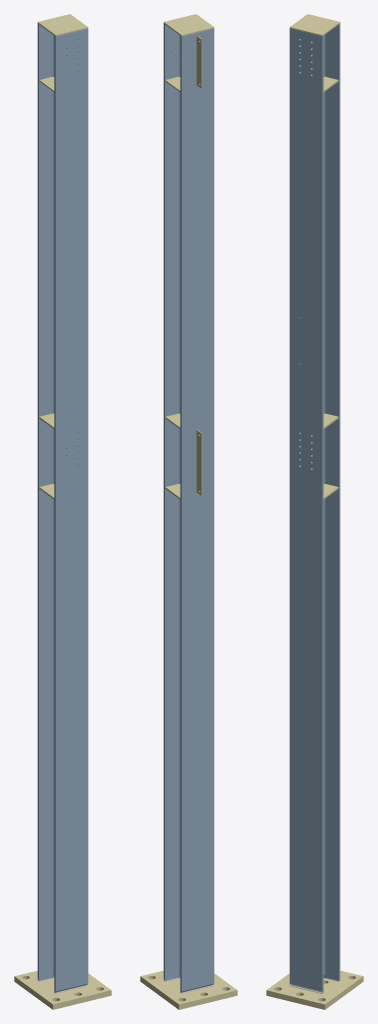
3 views of the same model, side by side, from view 1: azimuth 30°, elevation 25°; view 2: azimuth 210°, elevation 25°; view 3: azimuth 330°, elevation 25° (orthographic).
Visible parts, largest first — view 1: product-65b29816-f8a1-4d1b-8bb0-ab9964688945-body, product-bc5590c6-d2c3-47dd-92cb-f6e40964f995-body, product-5304abe9-6c36-403a-beb8-4f72c3dda225-body; view 2: product-65b29816-f8a1-4d1b-8bb0-ab9964688945-body, product-bc5590c6-d2c3-47dd-92cb-f6e40964f995-body, product-5304abe9-6c36-403a-beb8-4f72c3dda225-body, product-d0533e36-6a73-4172-b1c9-d85defb43081-body, product-11dd750c-20bd-40c3-88fa-63c64a4a1f97-body; view 3: product-65b29816-f8a1-4d1b-8bb0-ab9964688945-body, product-bc5590c6-d2c3-47dd-92cb-f6e40964f995-body, product-5304abe9-6c36-403a-beb8-4f72c3dda225-body.
Part boxes in pixels (x1,y1,x2,y2): product-65b29816-f8a1-4d1b-8bb0-ab9964688945-body: (37, 23, 88, 992); product-bc5590c6-d2c3-47dd-92cb-f6e40964f995-body: (14, 970, 111, 1009); product-5304abe9-6c36-403a-beb8-4f72c3dda225-body: (37, 14, 88, 36); product-65b29816-f8a1-4d1b-8bb0-ab9964688945-body: (163, 24, 214, 992); product-bc5590c6-d2c3-47dd-92cb-f6e40964f995-body: (140, 970, 237, 1009); product-5304abe9-6c36-403a-beb8-4f72c3dda225-body: (163, 14, 214, 36); product-d0533e36-6a73-4172-b1c9-d85defb43081-body: (196, 429, 202, 495); product-11dd750c-20bd-40c3-88fa-63c64a4a1f97-body: (196, 36, 202, 88); product-65b29816-f8a1-4d1b-8bb0-ab9964688945-body: (289, 24, 340, 992); product-bc5590c6-d2c3-47dd-92cb-f6e40964f995-body: (266, 970, 363, 1009); product-5304abe9-6c36-403a-beb8-4f72c3dda225-body: (289, 14, 340, 36).
Size of the model in its own units: 0.7112 by 11.2 by 0.8128.
